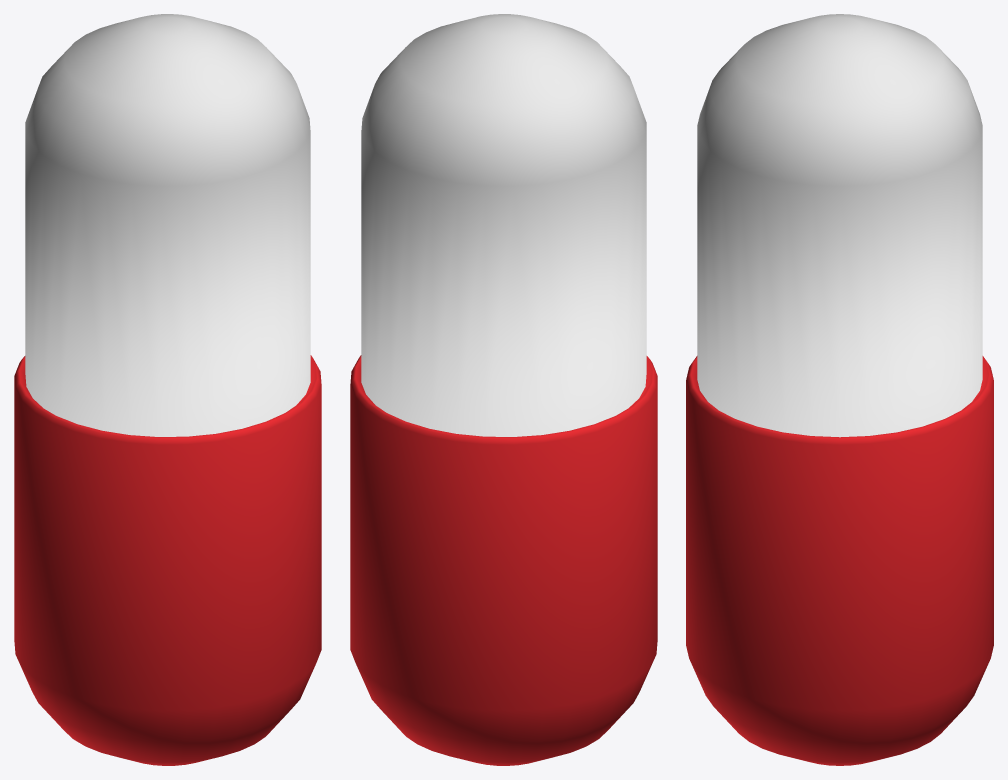
File: MedPill.fbx
3 renders of one model, left to right at view 1: azimuth 30°, elevation 25°; view 2: azimuth 150°, elevation 25°; view 3: azimuth 270°, elevation 25°, orthographic.
Visible parts, largest first — view 1: Pill; view 2: Pill; view 3: Pill.
Part boxes in pixels (box(x1,y1,x2,y2)): Pill: box(14, 14, 321, 765); Pill: box(350, 14, 657, 765); Pill: box(686, 14, 993, 765).
Bounding box in the file's own units: 100 × 260 × 100.
